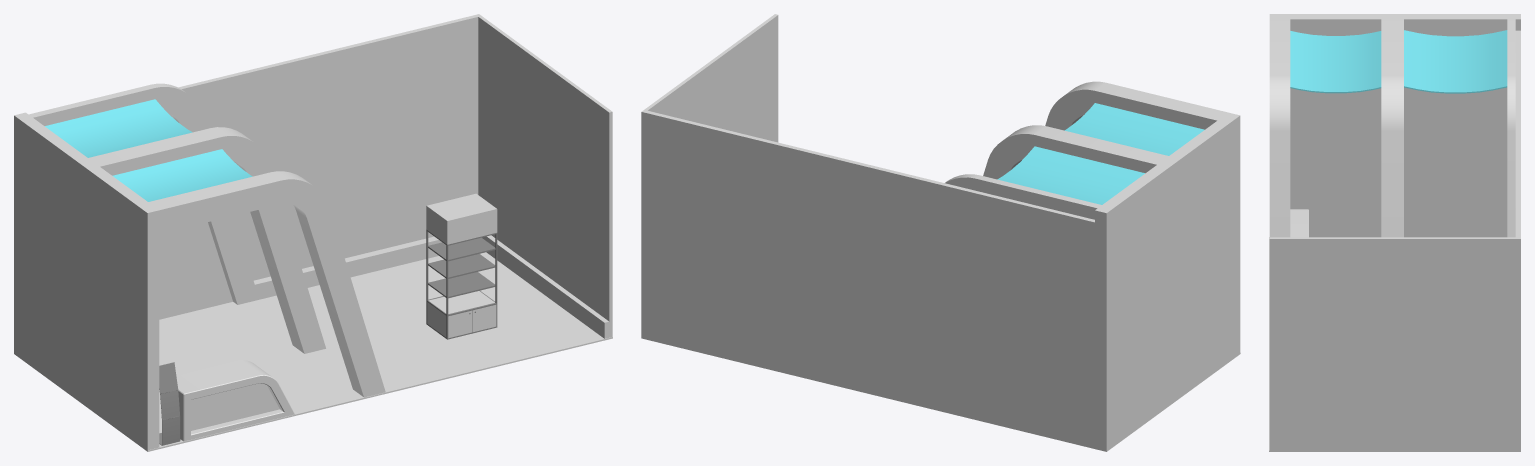
Rendered from Stand_7.fbx.
3 renders of one model, left to right at view 1: azimuth 30°, elevation 25°; view 2: azimuth 150°, elevation 25°; view 3: azimuth 270°, elevation 25°, orthographic. The views are drawn at different scales.
Visible parts, largest first — view 1: Stand_7, Stand_7_Shelf_1, Stand_7_Logo, Stand_7_Table, Stand_7_Shelf_2; view 2: Stand_7; view 3: Stand_7, Stand_7_Table.
Boxes of the visible parts, left/top/right/bottom form: Stand_7: left=14, top=14, right=612, bottom=451; Stand_7_Shelf_1: left=426, top=193, right=497, bottom=339; Stand_7_Logo: left=175, top=61, right=357, bottom=420; Stand_7_Table: left=176, top=360, right=294, bottom=441; Stand_7_Shelf_2: left=159, top=362, right=180, bottom=445; Stand_7: left=641, top=14, right=1240, bottom=451; Stand_7: left=1269, top=14, right=1520, bottom=451; Stand_7_Table: left=1290, top=209, right=1308, bottom=237.
Size of the model in its own units: 1026 by 503 by 511.
